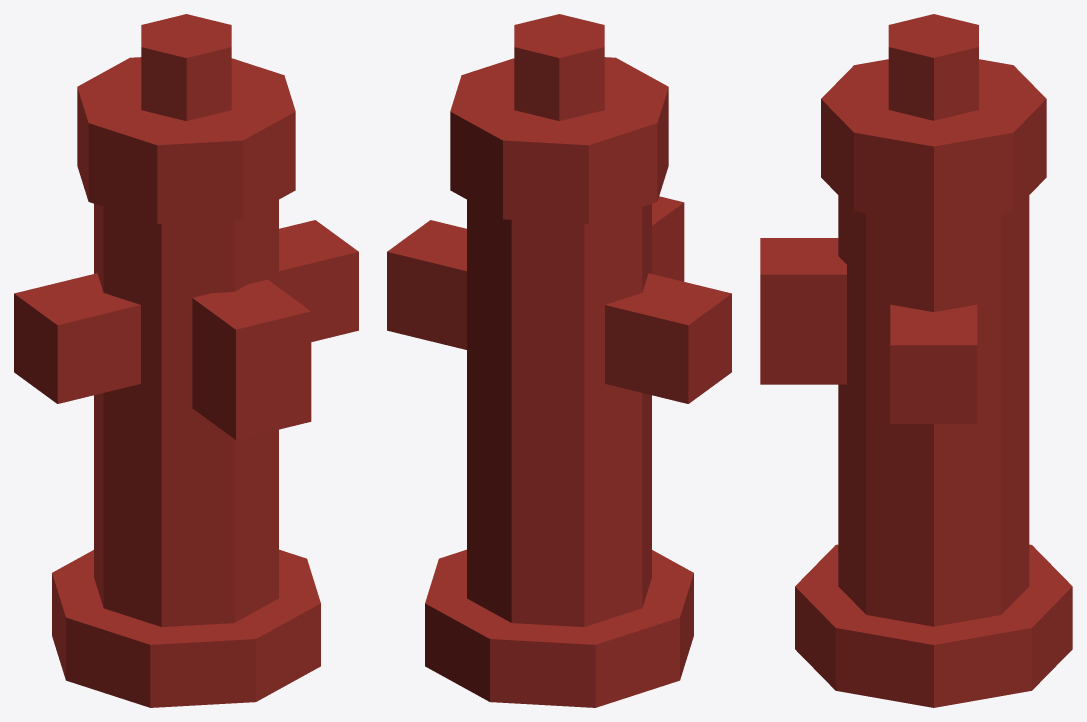
Rendered from tour_borne_incendie.glb.
3 views of the same model, side by side, from view 1: azimuth 30°, elevation 25°; view 2: azimuth 150°, elevation 25°; view 3: azimuth 270°, elevation 25° (orthographic).
Visible parts, largest first — view 1: tour_borne_incendie; view 2: tour_borne_incendie; view 3: tour_borne_incendie.
Boxes of the visible parts, x1,y1,x2,y2 form: tour_borne_incendie: (14, 14, 358, 707); tour_borne_incendie: (387, 14, 731, 707); tour_borne_incendie: (760, 14, 1072, 707).
Size of the model in its own units: 0.4 by 0.78 by 0.36.
